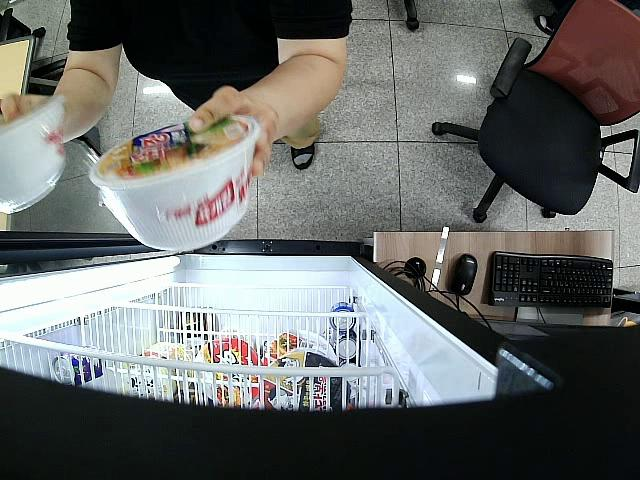00_hand: (182, 86, 276, 179), (0, 90, 65, 150)
09_yukGaeJang: (88, 115, 257, 252), (0, 90, 62, 214)
